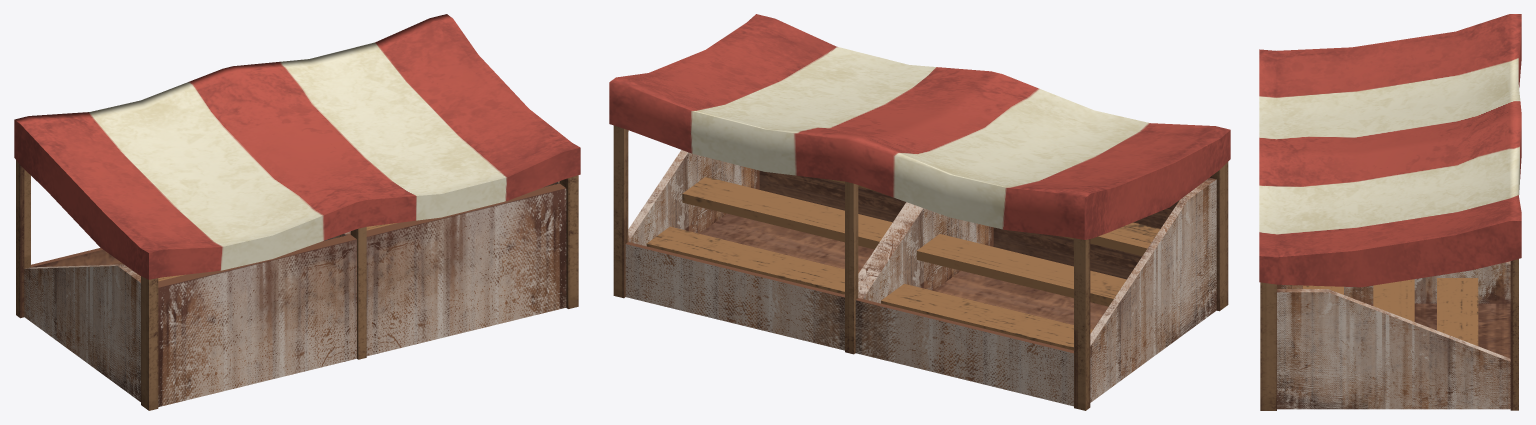
File: tribune.fbx
The picture shows the model from 3 angles, left to right: view 1: azimuth 30°, elevation 25°; view 2: azimuth 150°, elevation 25°; view 3: azimuth 270°, elevation 25°; orthographic projection. The views are drawn at different scales.
Visible parts, largest first — view 1: tribune2; view 2: tribune2; view 3: tribune2.
Boxes of the visible parts, box(x1,y1,x2,y2) form: tribune2: box(14, 14, 580, 410); tribune2: box(609, 14, 1230, 410); tribune2: box(1259, 14, 1521, 410).
Bounding box in the file's own units: 6.63 × 2.85 × 3.55.
